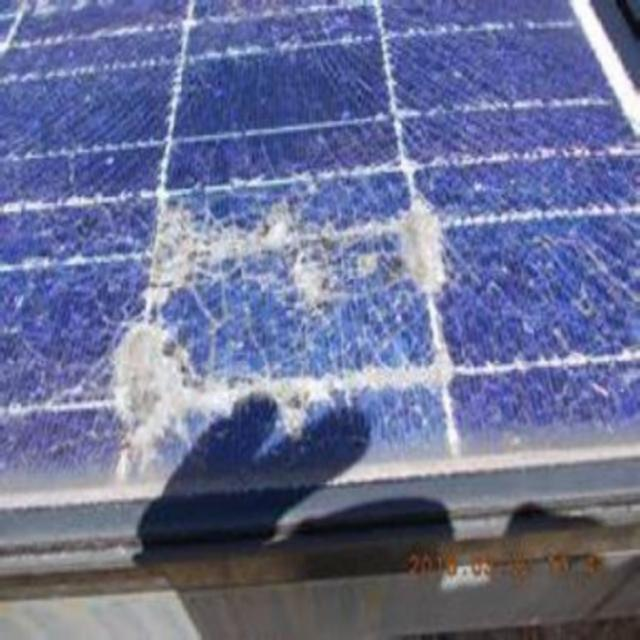cracked: (6, 8, 640, 589)
